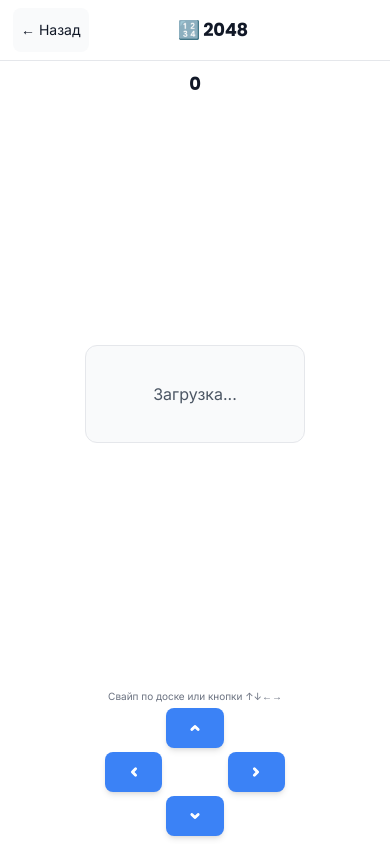
Scenario: Game2048 › блокирует кнопки во время загрузки
Click the button named "Вверх": (195, 728) [166,708,224,748]
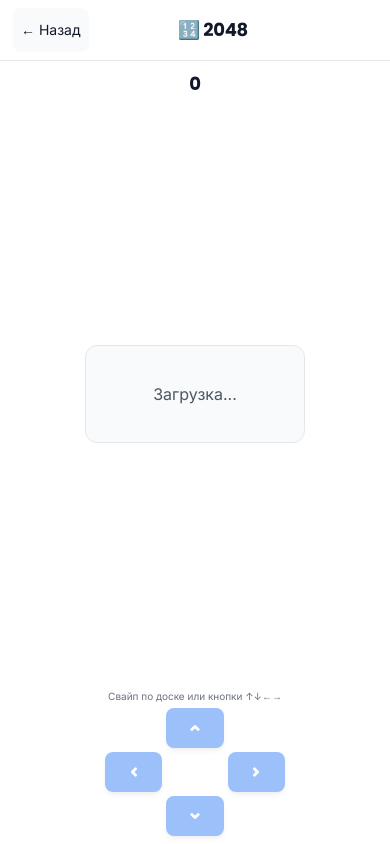
Expected: the button named "Вверх" is disabled, [166,708,224,748]
